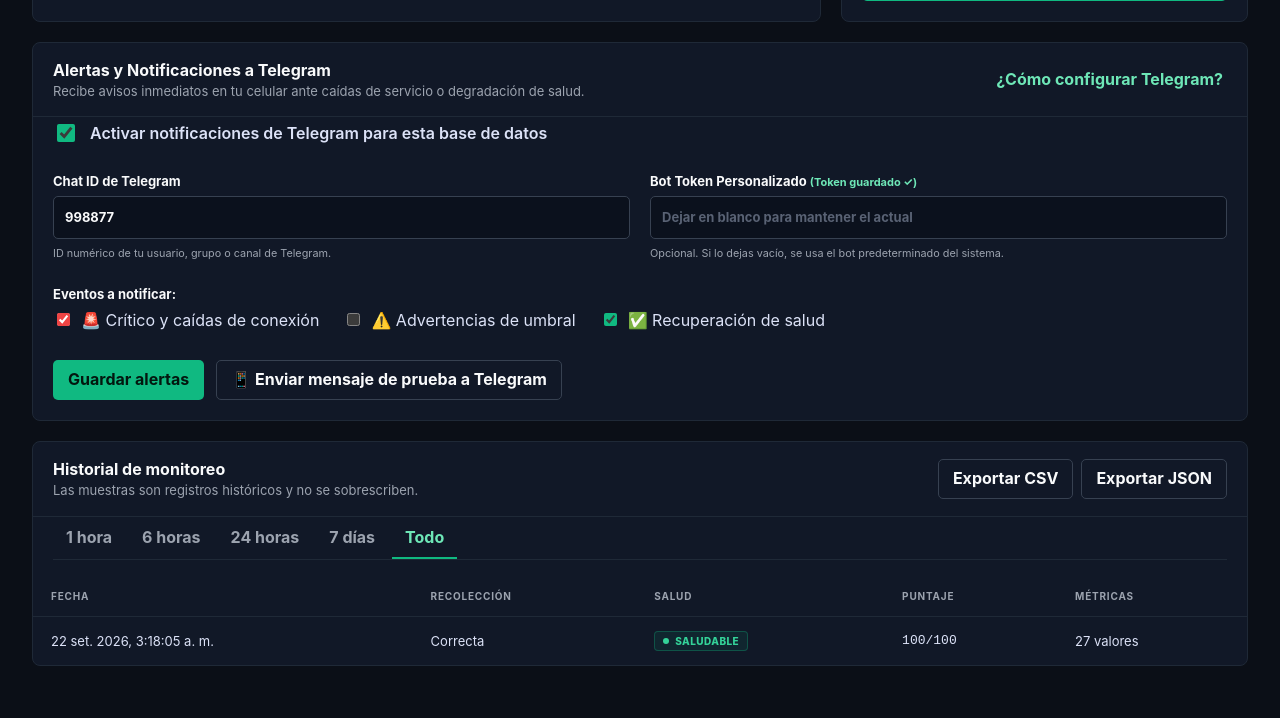
Test: DatabaseDetailPage › permite configurar y probar notificaciones de Telegram
(page scrolled)
Check: the heading "Alertas y Notificaciones a Telegram" is shown, box [53,60,331,80]
Check: the field with placeholder "Ej: 123456789 o -100123456789 (canal/grupo)" holds "998877", box [53,196,630,239]
Click the button "📱 Enviar mensaje de prueba a Telegram" at (389, 380), box [216,360,562,400]
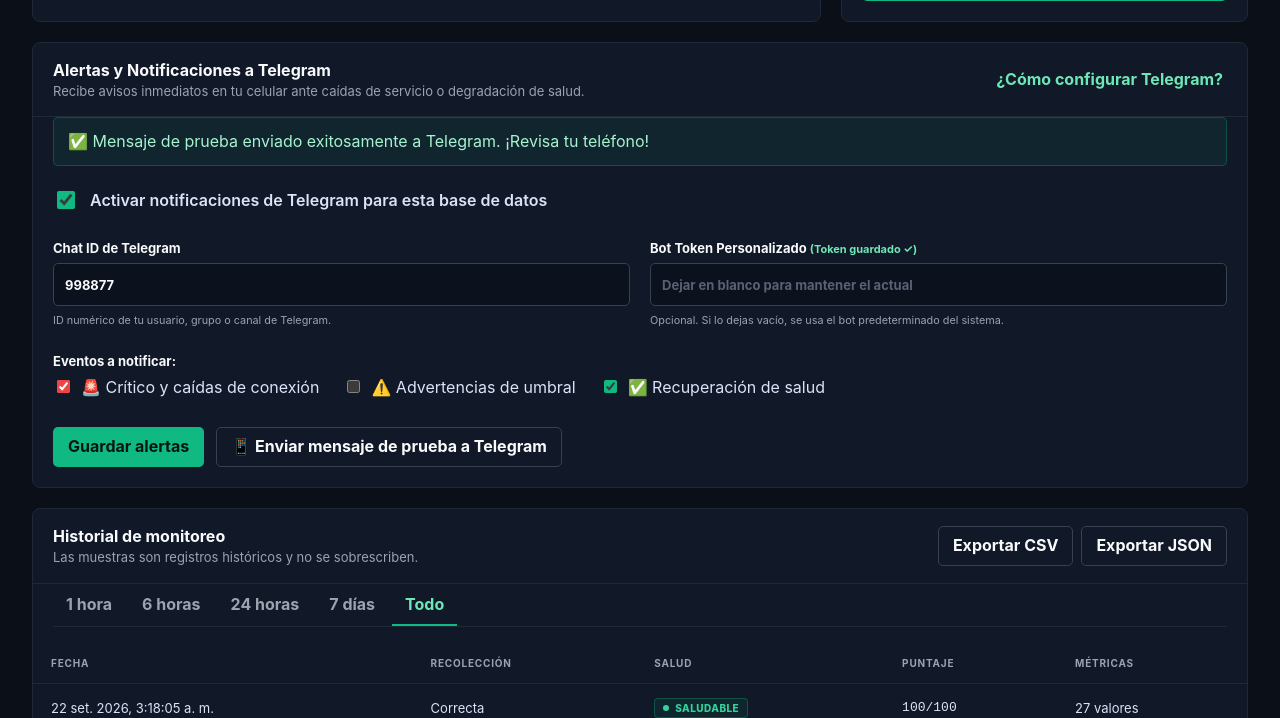
Check: the text "✅ Mensaje de prueba enviado exitosamente a Telegram. ¡Revisa tu teléfono!" is shown, box [53,117,1227,166]
